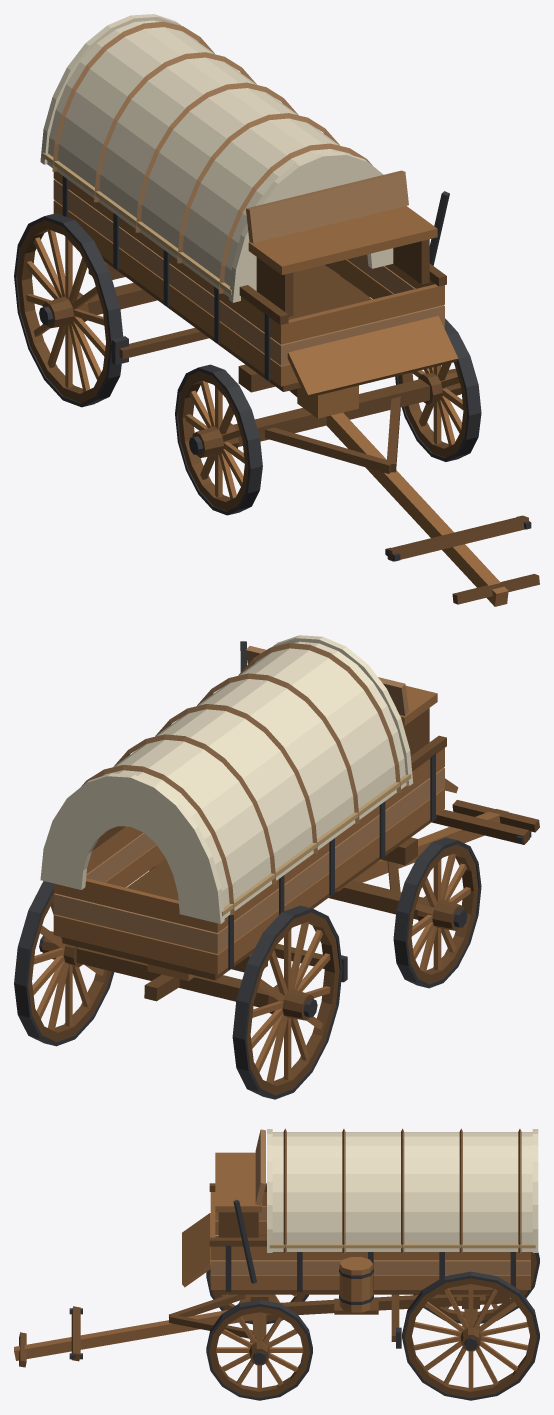
The model's file is wagon-v1.glb.
3 renders of one model, top to bottom at view 1: azimuth 30°, elevation 25°; view 2: azimuth 150°, elevation 25°; view 3: azimuth 270°, elevation 25°, orthographic. The views are drawn at different scales.
Parts seen in each view (by area): view 1: canvas, body, ironTire (×3), felloe (×3), footboard, bench, backrest, wheelRR, canvasFront, tongue, floor, frontAxle (+10 smaller); view 2: canvas, body, canvasBack, ironTire (×3), felloe (×3), wheelRR, wheelFR, floor, wheelRL, rearAxle, sideTopR, canvasFront (+11 smaller); view 3: canvas, body, felloe (×3), wheelRL, ironTire (×2), sideTopL, tongue, bench, wheelFL, footboard, waterBarrel, reachPole (+8 smaller).
Part boxes in pixels (x1,y1,x2,y2): canvas: (47, 20, 351, 297); body: (42, 21, 531, 561); ironTire (×3): (14, 213, 481, 515); felloe (×3): (17, 220, 467, 511); footboard: (287, 316, 458, 397); bench: (248, 206, 437, 274); backrest: (246, 170, 408, 243); wheelRR: (26, 229, 105, 392); canvasFront: (229, 152, 393, 302); tongue: (326, 412, 508, 606); floor: (102, 256, 371, 391); frontAxle: (233, 379, 429, 446); canvas: (102, 641, 406, 918); body: (53, 643, 531, 982); canvasBack: (40, 773, 224, 923); ironTire (×3): (14, 837, 481, 1099); felloe (×3): (28, 844, 478, 1095); wheelRR: (251, 922, 330, 1084); wheelFR: (411, 853, 470, 972); floor: (62, 815, 436, 980); wheelRL: (32, 901, 104, 1030); rearAxle: (76, 947, 269, 1007); sideTopR: (221, 750, 441, 930); canvasFront: (254, 635, 413, 785); canvas: (272, 1132, 532, 1251); body: (69, 1128, 535, 1359); felloe (×3): (209, 1252, 536, 1397); wheelRL: (413, 1284, 528, 1390); ironTire (×2): (206, 1271, 539, 1400); sideTopL: (215, 1246, 526, 1260); tongue: (14, 1310, 252, 1360); bench: (215, 1152, 261, 1212); wheelFL: (216, 1312, 303, 1390); footboard: (182, 1213, 210, 1287); waterBarrel: (339, 1257, 373, 1312); reachPole: (266, 1294, 510, 1316).
Size of the model in its own units: 1.97 by 2.26 by 4.73.
